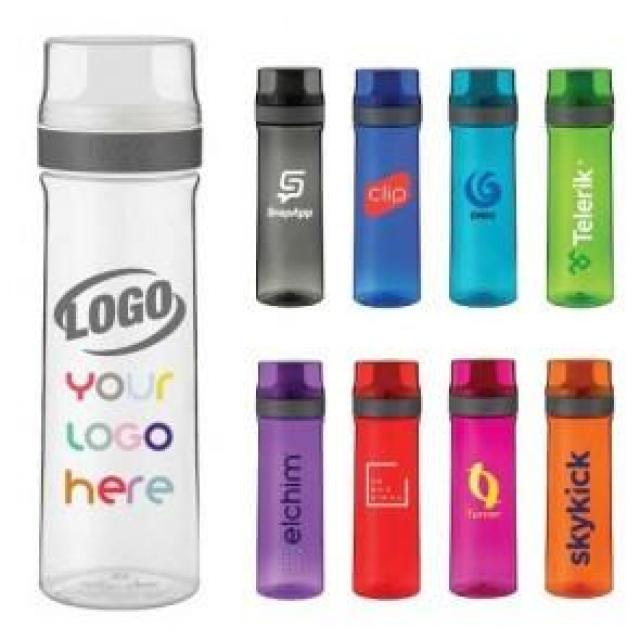plastic_bottle: (23, 35, 225, 614), (438, 55, 532, 311), (245, 53, 332, 326), (350, 65, 428, 323), (545, 345, 619, 607), (253, 352, 327, 606), (447, 357, 521, 608), (542, 68, 616, 311), (350, 356, 420, 594)
